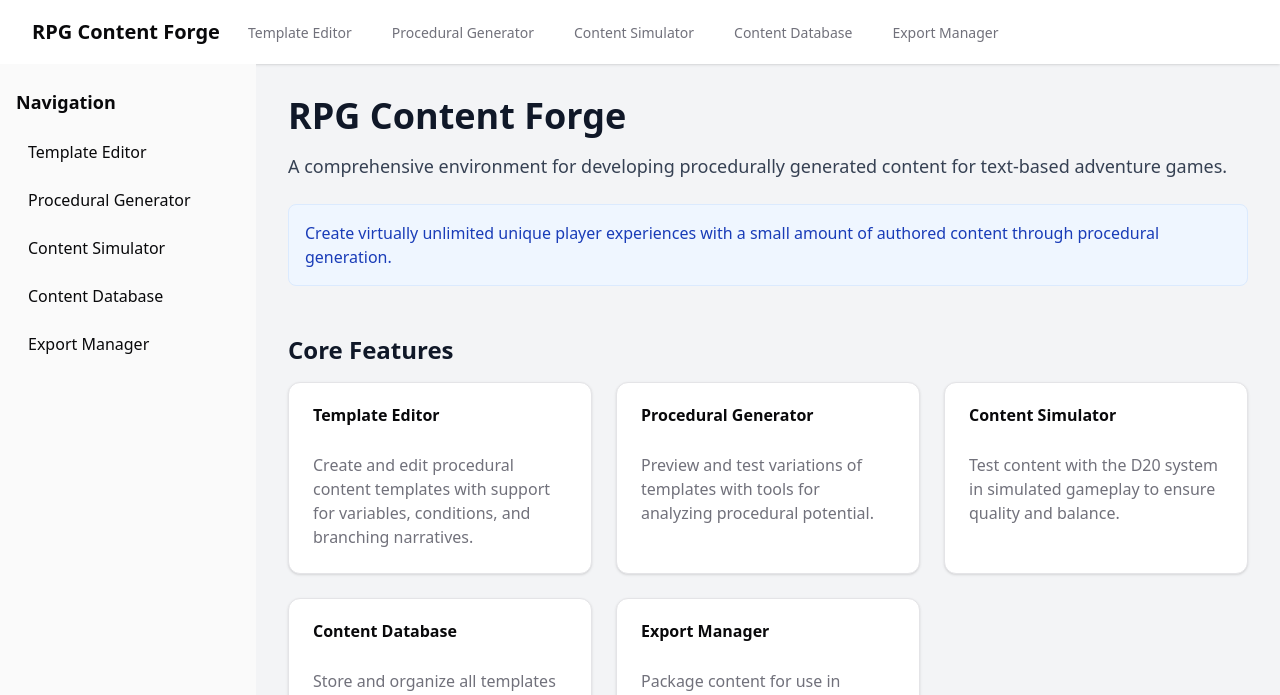
Home Page › navigates to Content Database page
The image size is (1280, 695).
// Click on the Content Database card
Step 1. Click the 1st link "Content Database" → (793, 33), box [734,23,852,42]
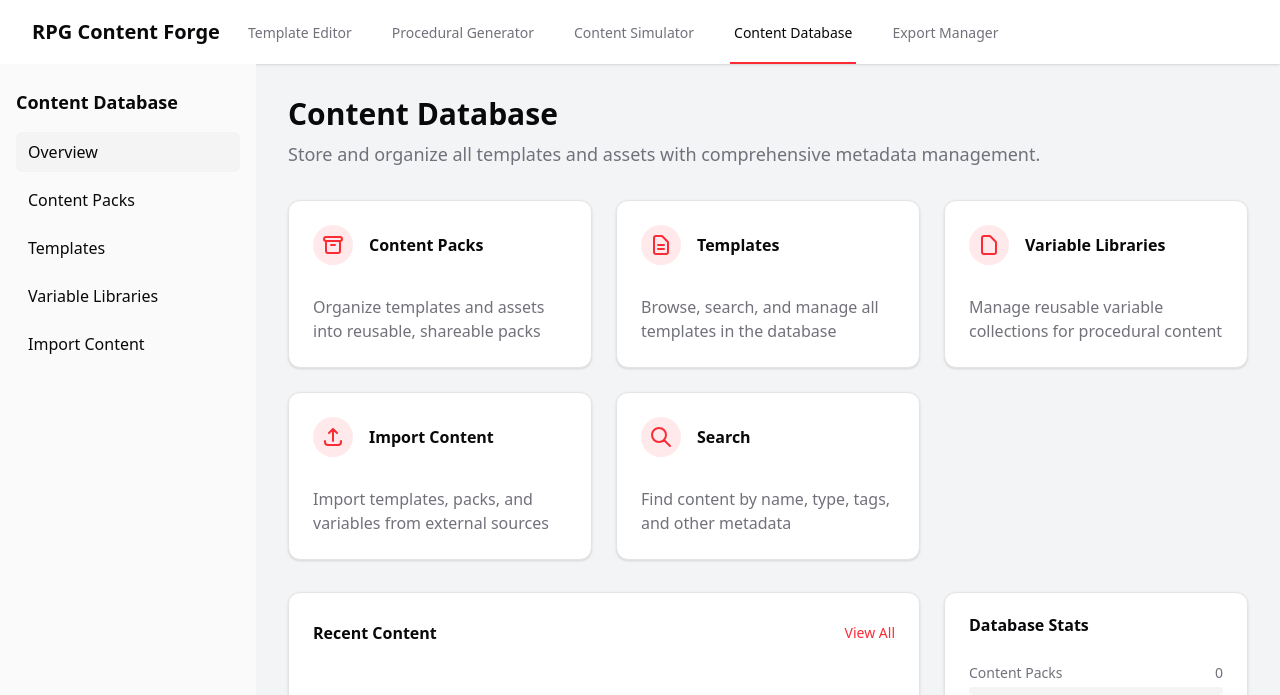
Expected: the 2nd heading "Content Database" is shown, [288,93,558,134]
